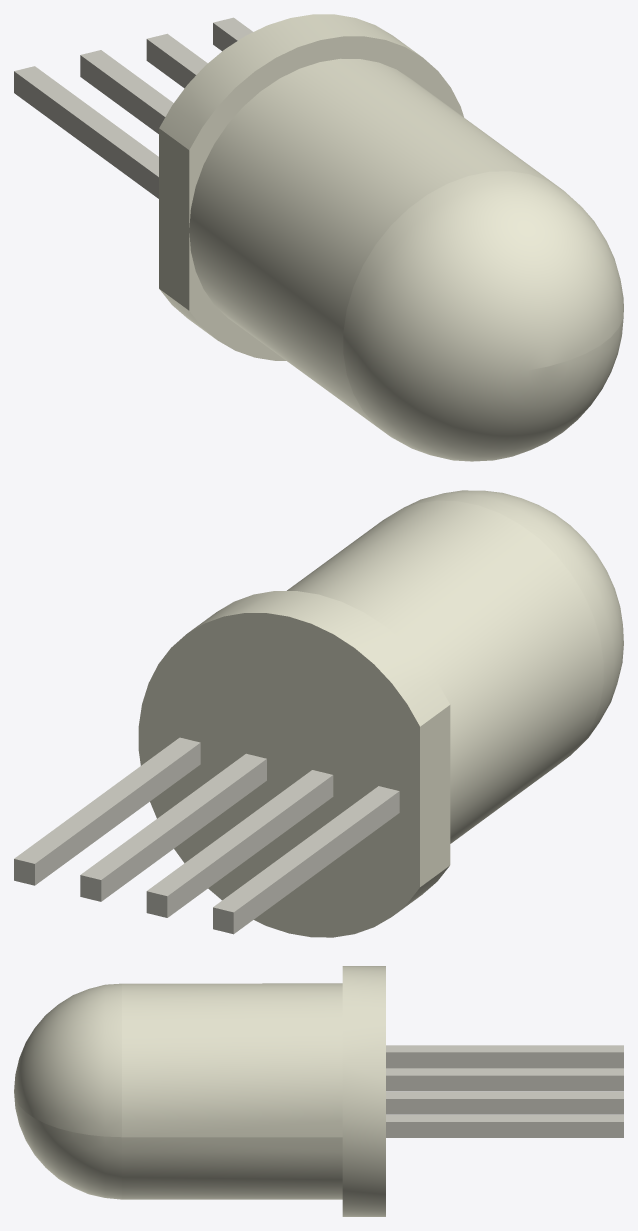
File: rgb_led.glb
3 views of the same model, one above another, from view 1: azimuth 30°, elevation 25°; view 2: azimuth 150°, elevation 25°; view 3: azimuth 270°, elevation 25° (orthographic). The views are drawn at different scales.
Parts seen in each view (by area): view 1: plastic-0.78-0.77-0.63, metal-0.6; view 2: plastic-0.78-0.77-0.63, metal-0.6; view 3: plastic-0.78-0.77-0.63, metal-0.6.
Part boxes in pixels (<box>): plastic-0.78-0.77-0.63: <box>159,14,623,461</box>; metal-0.6: <box>14,17,252,198</box>; plastic-0.78-0.77-0.63: <box>138,490,623,937</box>; metal-0.6: <box>14,737,399,934</box>; plastic-0.78-0.77-0.63: <box>14,966,385,1216</box>; metal-0.6: <box>386,1045,623,1137</box>.
Bounding box in the file's own units: 5.39 × 5.8 × 14.1.
